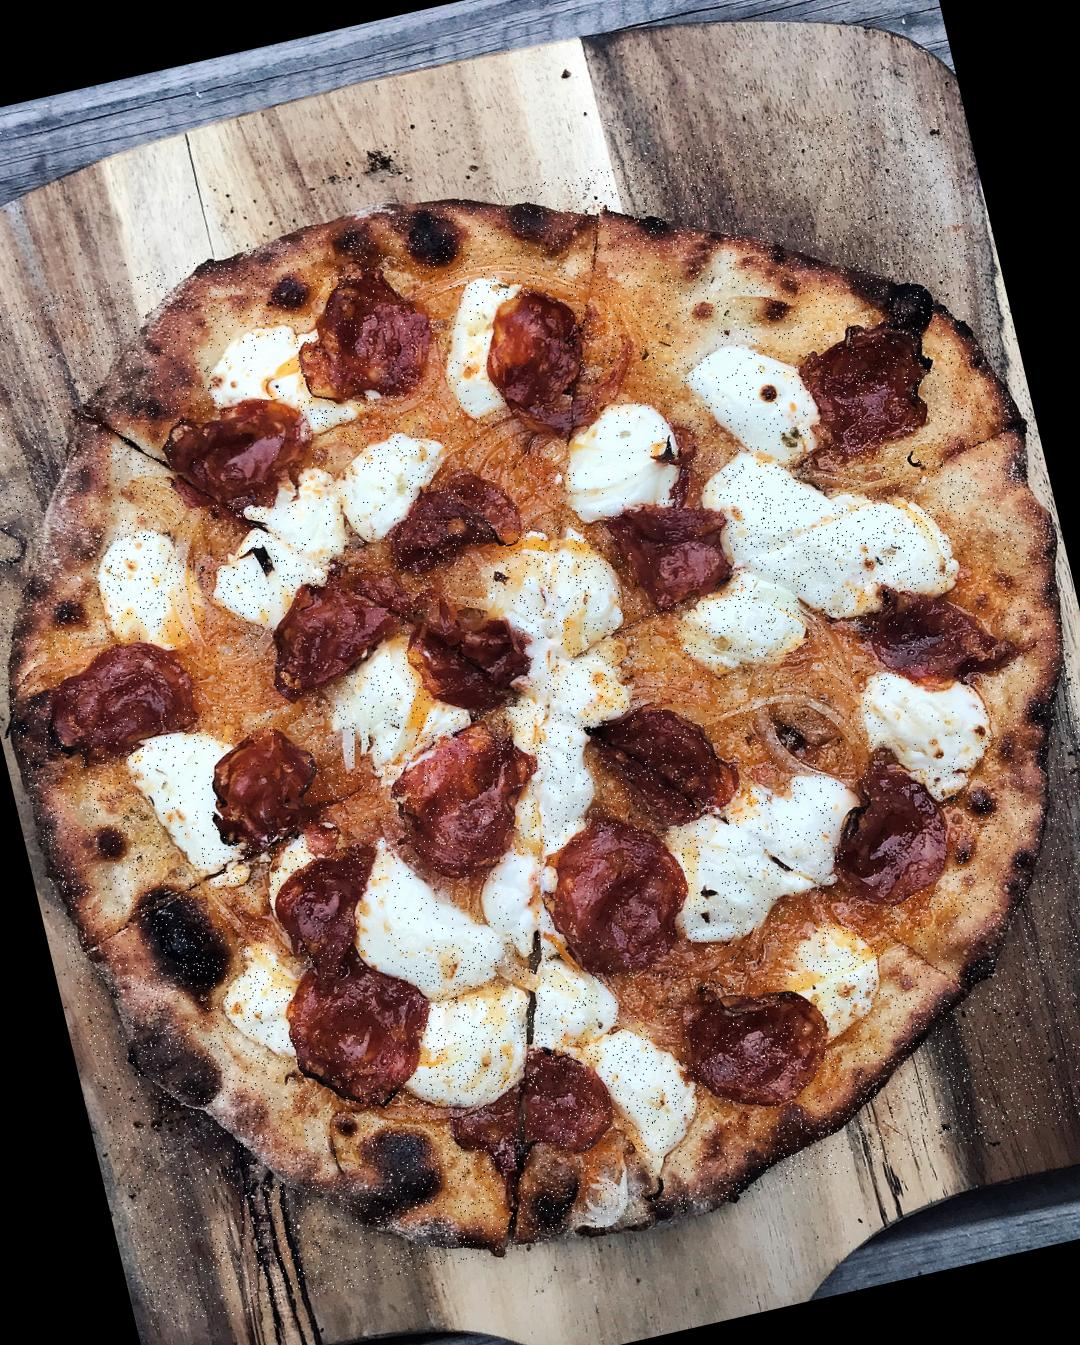Cheese: (714, 425, 958, 629), (499, 528, 631, 738), (402, 924, 571, 1085), (357, 848, 544, 963), (676, 787, 840, 913), (702, 337, 822, 469), (276, 460, 415, 547), (565, 412, 674, 521), (143, 738, 234, 869), (872, 676, 983, 773), (102, 544, 195, 649), (212, 332, 305, 411), (439, 296, 503, 405)
Pepperoni: (269, 863, 432, 1107), (539, 824, 690, 981), (389, 722, 541, 874), (447, 1050, 611, 1178), (691, 974, 833, 1113), (596, 697, 743, 832), (44, 637, 198, 762), (799, 319, 935, 458), (310, 268, 442, 408), (827, 764, 955, 905), (871, 570, 1009, 694), (168, 395, 316, 510), (483, 290, 594, 443), (379, 460, 532, 570), (269, 575, 402, 688), (412, 596, 531, 716), (624, 491, 739, 608), (209, 730, 322, 840)
Pizza: (0, 89, 1080, 1333)
